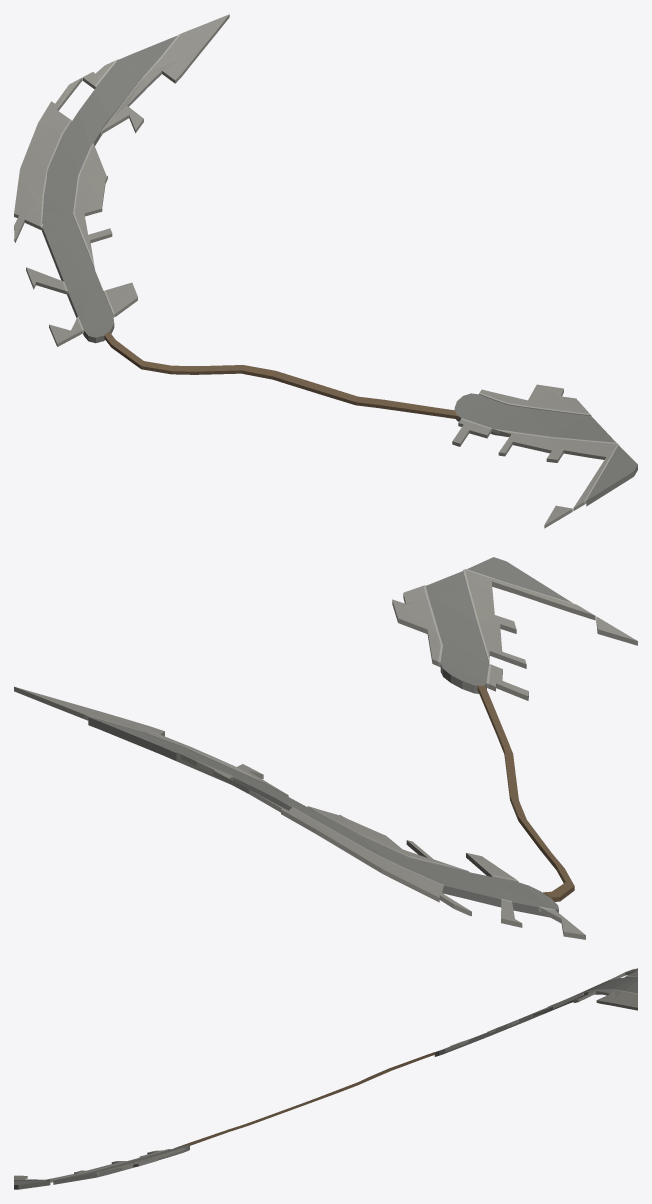
The picture shows the model from 3 angles, top to bottom: view 1: azimuth 30°, elevation 25°; view 2: azimuth 150°, elevation 25°; view 3: azimuth 270°, elevation 25°; orthographic projection. The views are drawn at different scales.
Bounding box in the file's own units: 73.13 × 49.86 × 146.
